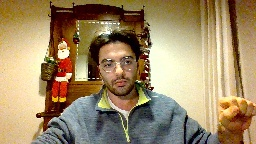Pugno: (215, 93, 256, 128)
